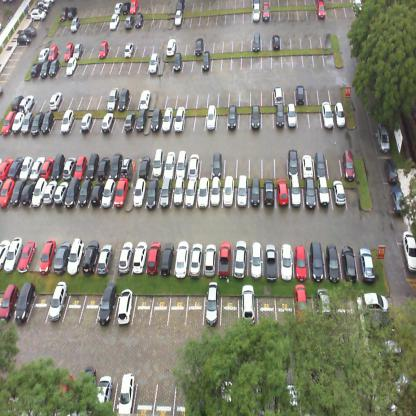car: (385, 369, 409, 414), (360, 291, 390, 319), (94, 372, 113, 416), (370, 340, 402, 366), (46, 290, 69, 326), (78, 364, 96, 410), (364, 315, 396, 340), (96, 288, 118, 324), (4, 236, 24, 275), (354, 240, 374, 277), (17, 239, 38, 274), (114, 289, 136, 322), (0, 282, 18, 322), (13, 289, 36, 320), (118, 371, 134, 415), (145, 240, 165, 275), (324, 242, 342, 280), (202, 293, 221, 329), (58, 373, 75, 412), (41, 239, 60, 273), (68, 240, 87, 274), (240, 283, 255, 326), (402, 229, 416, 273), (76, 176, 94, 210), (144, 177, 162, 211), (293, 243, 311, 277), (53, 241, 72, 273), (294, 283, 308, 326), (82, 240, 100, 273), (340, 241, 356, 278), (88, 174, 105, 208), (278, 244, 295, 278), (31, 175, 48, 209), (310, 242, 326, 278), (0, 174, 16, 210), (219, 378, 234, 416), (160, 241, 177, 274), (174, 243, 191, 276), (203, 241, 218, 278), (317, 286, 332, 323), (170, 176, 186, 210), (188, 242, 204, 276), (263, 243, 279, 277), (234, 241, 249, 277), (65, 176, 81, 209), (113, 177, 129, 210), (156, 178, 172, 211), (132, 240, 148, 273), (217, 242, 233, 275), (100, 178, 116, 210), (390, 184, 406, 216), (96, 244, 113, 274), (248, 240, 263, 274), (316, 177, 332, 208), (314, 148, 330, 178), (118, 242, 134, 272), (10, 178, 26, 207), (59, 105, 75, 134), (133, 177, 146, 212), (73, 154, 91, 179), (384, 157, 399, 187), (341, 149, 357, 177), (376, 122, 390, 154), (84, 153, 101, 179), (7, 154, 24, 180), (330, 179, 345, 208), (197, 179, 211, 210), (288, 180, 304, 207), (53, 180, 69, 207), (30, 154, 46, 181), (1, 109, 17, 136), (285, 382, 298, 415), (122, 106, 137, 134), (288, 147, 302, 177), (301, 148, 315, 178), (235, 179, 249, 209), (262, 178, 276, 208), (276, 179, 290, 209), (52, 150, 66, 180), (96, 154, 112, 180), (209, 180, 223, 209), (43, 179, 58, 206), (21, 179, 36, 206), (304, 178, 317, 209), (122, 155, 138, 180), (101, 107, 115, 135), (117, 84, 131, 112), (332, 101, 347, 127), (186, 152, 201, 178), (19, 155, 34, 181), (109, 155, 125, 179), (62, 154, 76, 181), (30, 110, 44, 137), (184, 179, 196, 210), (133, 108, 147, 134), (149, 154, 163, 180), (0, 239, 11, 272), (138, 155, 153, 179), (249, 179, 261, 209), (150, 106, 163, 133), (0, 155, 13, 182), (148, 50, 161, 77), (164, 152, 178, 177), (210, 152, 224, 177), (224, 179, 236, 208), (106, 86, 119, 112), (174, 153, 188, 177), (21, 110, 35, 134), (11, 110, 25, 134), (41, 111, 55, 134), (81, 110, 94, 134), (40, 156, 54, 178), (49, 90, 63, 112), (162, 107, 174, 132), (65, 54, 77, 78), (321, 104, 334, 126), (139, 87, 152, 109), (274, 105, 286, 128), (20, 94, 35, 112), (273, 84, 284, 108), (98, 38, 110, 60), (40, 55, 52, 77), (174, 108, 184, 134), (47, 42, 60, 62), (48, 56, 61, 76), (64, 38, 75, 61), (252, 105, 262, 130), (30, 60, 43, 79), (205, 108, 216, 130), (228, 106, 239, 128), (166, 36, 177, 58), (286, 105, 297, 126), (123, 40, 135, 59), (72, 41, 84, 60), (38, 43, 50, 62), (30, 7, 46, 21), (12, 92, 24, 110), (251, 3, 261, 24), (252, 30, 261, 53), (108, 13, 120, 30), (172, 52, 182, 72), (194, 36, 204, 56), (296, 82, 305, 104), (202, 50, 210, 74), (352, 0, 364, 16), (70, 16, 80, 35), (316, 1, 326, 20), (16, 34, 31, 46), (124, 11, 134, 29), (134, 11, 144, 29), (67, 4, 77, 21), (58, 5, 69, 20), (174, 10, 183, 28), (121, 0, 131, 16), (262, 2, 270, 22), (128, 0, 138, 15), (272, 32, 280, 50), (22, 26, 36, 36), (35, 3, 49, 12), (39, 0, 52, 9), (176, 0, 185, 12), (114, 1, 122, 13)
